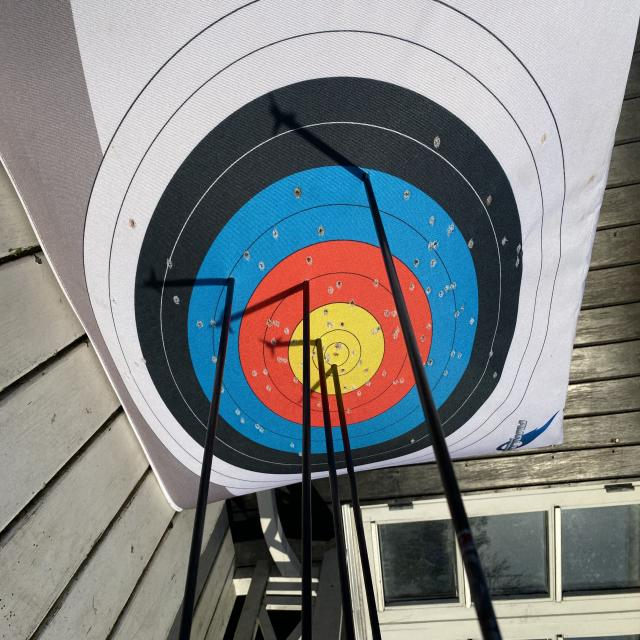Arrow_Blue: (218, 257, 250, 311), (352, 159, 386, 206)
Arrow_Red: (290, 263, 316, 306)
Arrow_Yellow: (310, 327, 330, 366), (328, 359, 348, 389)
